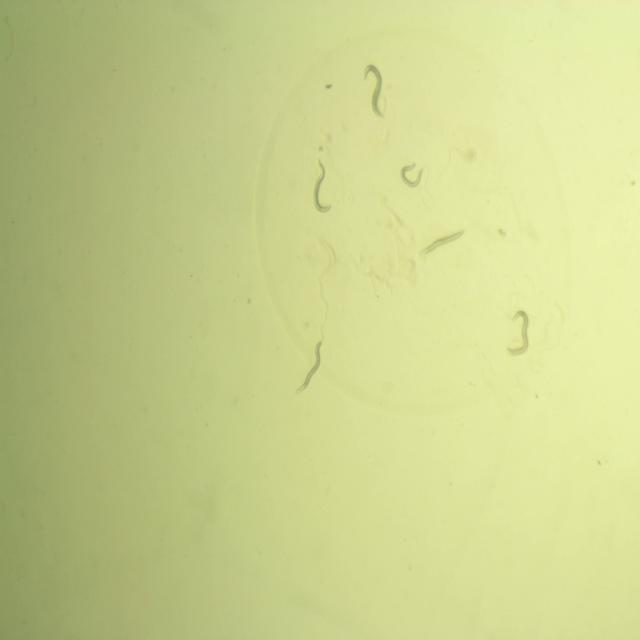worm: (290, 329, 326, 399), (416, 220, 468, 263), (357, 58, 389, 124), (310, 154, 334, 221), (504, 304, 532, 359), (396, 159, 425, 195)
